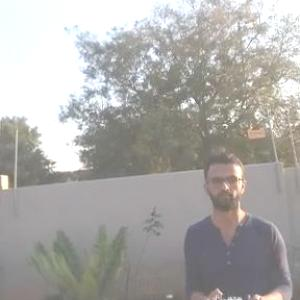follow: (179, 146, 298, 299)
